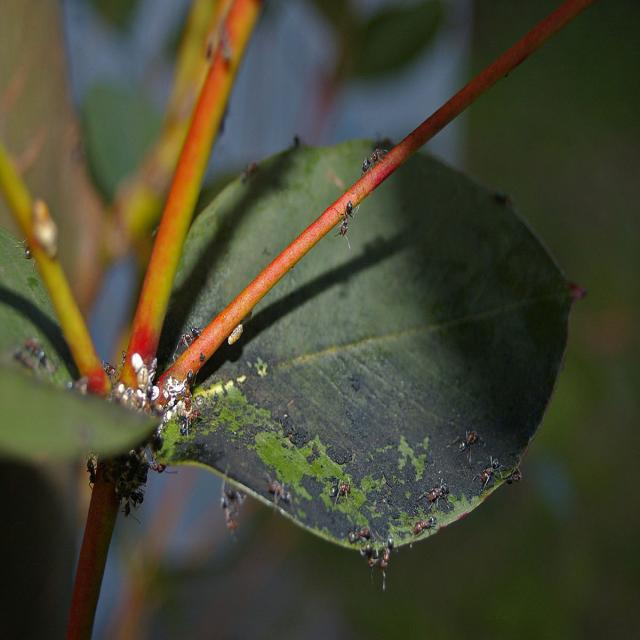Sooty Mold: (86, 349, 566, 585)
